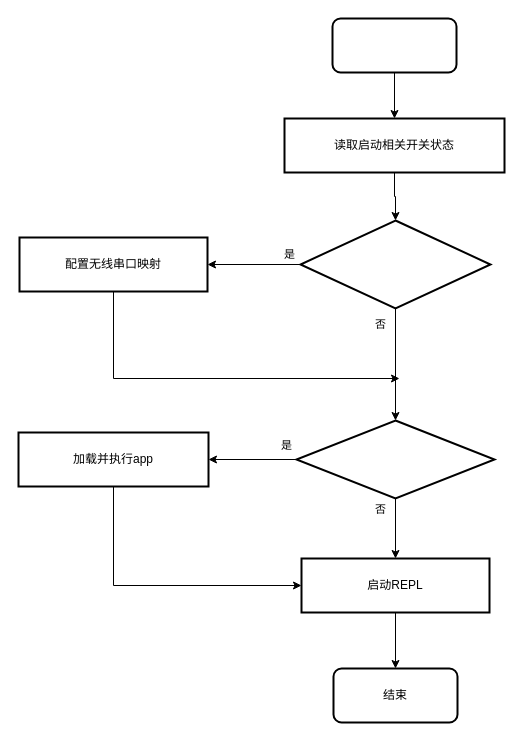
Image size: 522x740. Some labels were removed from this diagram. Each missing label, with the centre of its shape:
"开始" goes at [394,45].
"是否允许启动主程序" goes at [395,459].
"是否启用无线 REPL" goes at [395,264].
